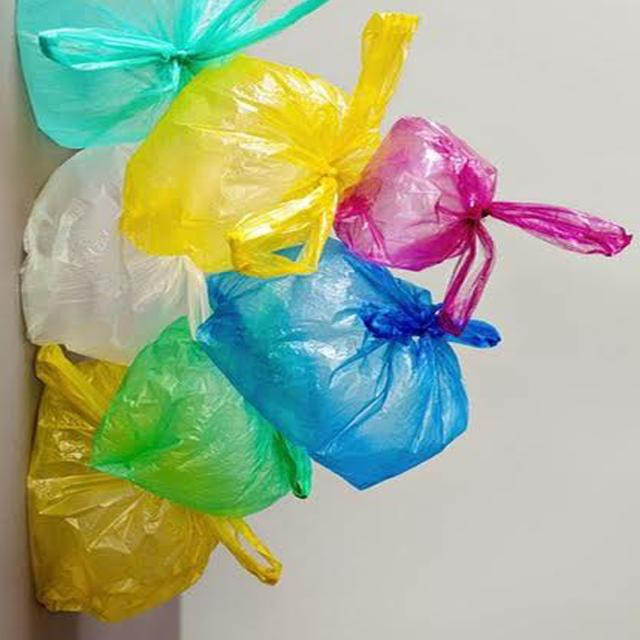Single-layer Plastic: (121, 14, 418, 277), (198, 239, 499, 488), (28, 345, 281, 621), (335, 118, 632, 336), (18, 0, 326, 148), (91, 318, 311, 516), (21, 147, 210, 363)
